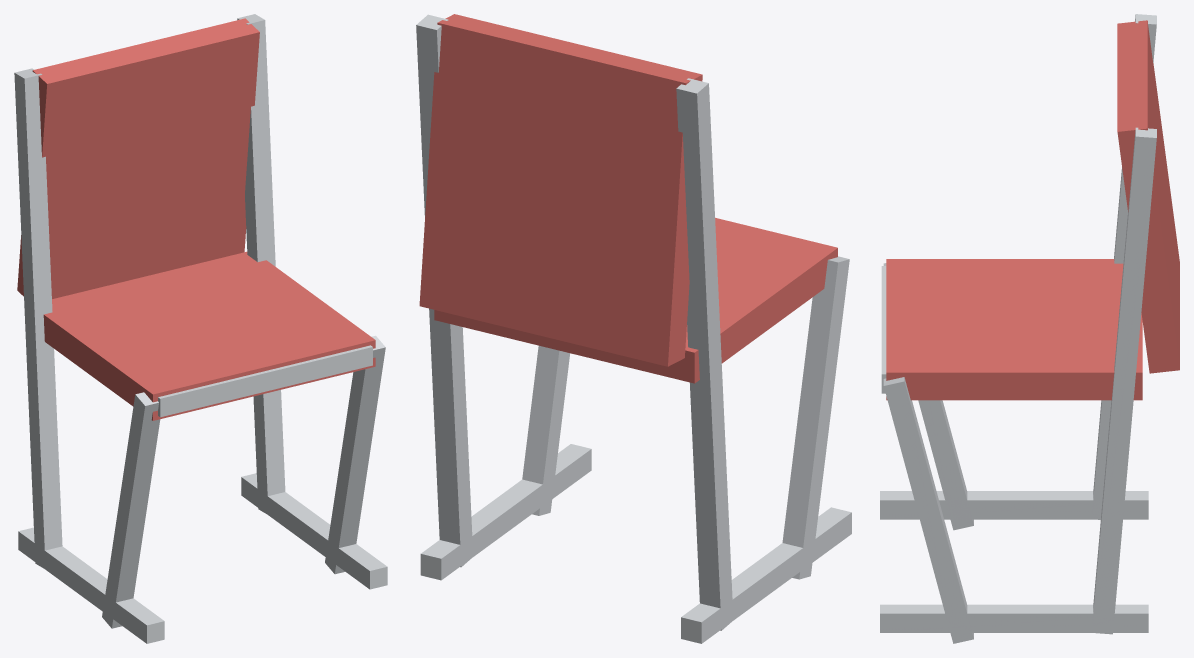
The model's file is hot-air-balloon-festival-folding-camp-chair-red-d63388d3__38514.glb.
3 views of the same model, side by side, from view 1: azimuth 30°, elevation 25°; view 2: azimuth 150°, elevation 25°; view 3: azimuth 270°, elevation 25° (orthographic). The views are drawn at different scales.
Visible parts, largest first — view 1: folding-camp-chair-red-canvasC, folding-camp-chair-red-steel; view 2: folding-camp-chair-red-canvasC, folding-camp-chair-red-steel; view 3: folding-camp-chair-red-canvasC, folding-camp-chair-red-steel.
Boxes of the visible parts, box(x1,y1,x2,y2) form: folding-camp-chair-red-canvasC: box(17, 18, 375, 420); folding-camp-chair-red-steel: box(14, 14, 387, 643); folding-camp-chair-red-canvasC: box(419, 14, 837, 383); folding-camp-chair-red-steel: box(416, 14, 851, 643); folding-camp-chair-red-canvasC: box(886, 20, 1179, 400); folding-camp-chair-red-steel: box(880, 14, 1156, 643).
Bounding box in the file's own units: 0.475 × 0.9187 × 0.4912.
